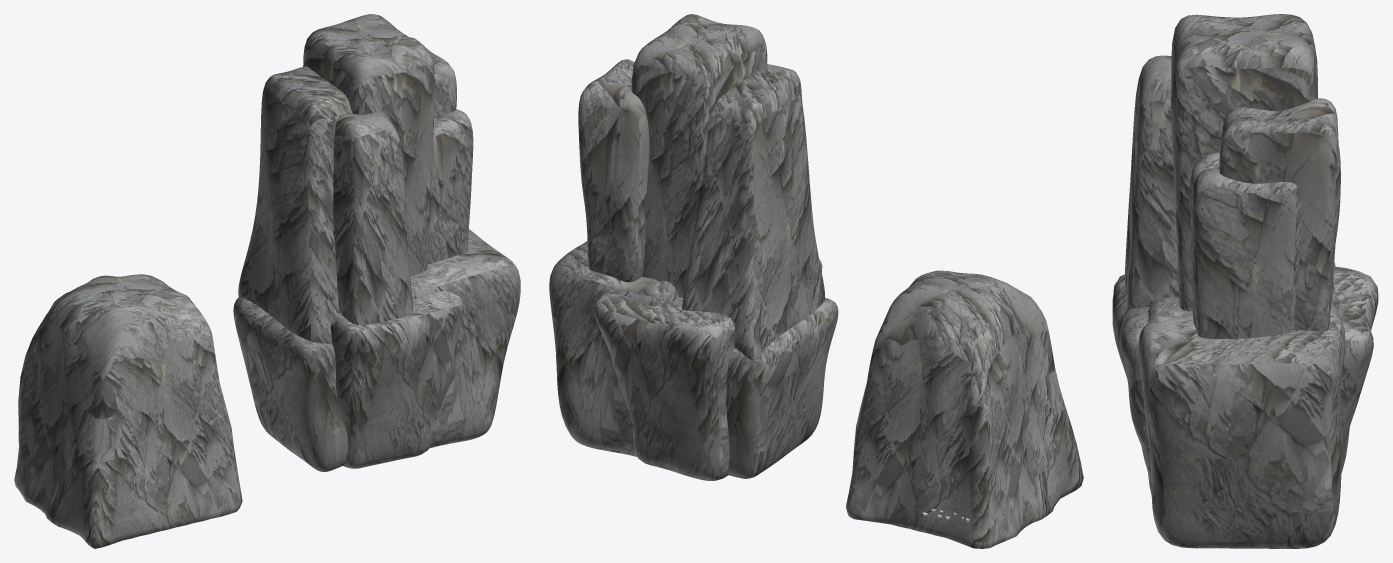
Rendered from Stone2.fbx.
3 renders of one model, left to right at view 1: azimuth 30°, elevation 25°; view 2: azimuth 150°, elevation 25°; view 3: azimuth 270°, elevation 25°, orthographic. The views are drawn at different scales.
Visible parts, largest first — view 1: Cube.020, Cube; view 2: Cube.020, Cube; view 3: Cube.020.
Boxes of the visible parts, box(x1,y1,x2,y2) form: Cube.020: box(233, 14, 520, 472); Cube: box(14, 274, 242, 548); Cube.020: box(549, 14, 838, 480); Cube: box(846, 270, 1083, 548); Cube.020: box(1112, 14, 1378, 548).
Bounding box in the file's own units: 3985 × 3421 × 1742.
